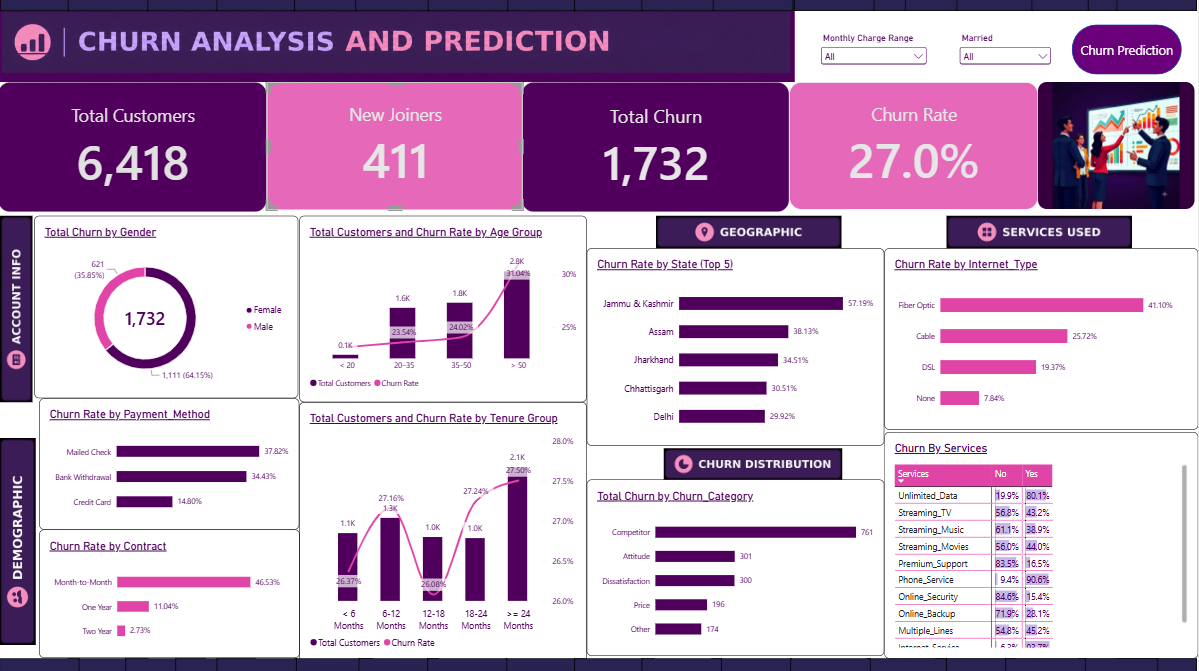

The page's visual inventory and layout, read from the dashboard file:
{"tool":"powerbi","page":{"name":"Summary","canvas":[1920,1080],"ordinal":0},"visuals":[{"type":"cardVisual","fields":{"Data":["tbl_Measures.Total Customers"]},"box":[0,136,430,208.3],"z":0},{"type":"cardVisual","fields":{"Data":["tbl_Measures.Total Churn"]},"box":[838.3,136.7,428,208],"z":1000},{"type":"cardVisual","fields":{"Data":["tbl_Measures.New Joiners"]},"box":[430,136.7,410,204],"z":2000},{"type":"cardVisual","fields":{"Data":["tbl_Measures.Churn Rate"]},"box":[1266,136,398,204],"z":3000},{"type":"donutChart","fields":{"Category":["prod_Churn.Gender"],"Y":["tbl_Measures.Total Churn"]},"box":[58,350,422,292],"z":4000},{"type":"lineStackedColumnComboChart","title":"Total Customers and Churn Rate by Age Group","fields":{"Category":["mapping_AgeGrp.Age Group"],"Y":["tbl_Measures.Total Customers"],"Y2":["tbl_Measures.Churn Rate"]},"box":[482,350,460,298],"z":5000},{"type":"clusteredBarChart","fields":{"Category":["prod_Churn.Payment_Method"],"Y":["tbl_Measures.Churn Rate"]},"box":[66,642,416,210],"z":6000},{"type":"clusteredBarChart","fields":{"Category":["prod_Churn.Contract"],"Y":["tbl_Measures.Churn Rate"]},"box":[66.7,852.2,416.7,205.6],"z":7000},{"type":"lineStackedColumnComboChart","fields":{"Category":["mapping_TenureGrp. Tenure Group "],"Y":["tbl_Measures.Total Customers"],"Y2":["tbl_Measures.Churn Rate"]},"box":[482,648,460,416],"z":8000},{"type":"clusteredBarChart","title":"Churn Rate by State (Top 5)","fields":{"Category":["prod_Churn.State"],"Y":["tbl_Measures.Churn Rate"]},"box":[942,402,476,316],"z":9000},{"type":"clusteredBarChart","fields":{"Category":["prod_Churn.Churn_Category"],"Y":["tbl_Measures.Total Churn"]},"box":[942,772,476,282],"z":10000},{"type":"clusteredBarChart","fields":{"Category":["prod_Churn.Internet_Type"],"Y":["tbl_Measures.Churn Rate"]},"box":[1418,402,502,290],"z":11000},{"type":"pivotTable","title":"Churn By Services","fields":{"Columns":["prod_Services.Status"],"Rows":["prod_Services.Services"],"Values":["Sum(prod_Services.Churn Status )"]},"box":[1418,696,502,362],"z":12000},{"type":"slicer","fields":{"Values":["prod_Churn.Monthly Charge Status"]},"box":[1311.7,55,178.3,56.7],"z":13000},{"type":"slicer","fields":{"Values":["prod_Churn.Married"]},"box":[1533.3,55,155,56.7],"z":14000},{"type":"image","box":[1664.2,136.7,250,203.3],"z":15000},{"type":"image","box":[1018,722,380,50],"z":17000},{"type":"image","box":[1484,350,364,52],"z":18000},{"type":"image","box":[948,350,506,52],"z":19000},{"type":"image","box":[2.5,680,58,382],"z":20000},{"type":"image","box":[0,350,58,298],"z":21000},{"type":"image","box":[280,1057.5,514,22],"z":22000},{"type":"image","box":[1417.5,0,132.5,22.5],"z":23000},{"type":"image","box":[552.5,1057.5,177.5,22.5],"z":24000},{"type":"image","box":[635,1057.5,480,22.5],"z":25000},{"type":"image","box":[662.5,1057.5,177.5,22.5],"z":26000},{"type":"image","box":[920,1057.5,132.5,22.5],"z":27000},{"type":"image","box":[1140,1057.5,132.5,22.5],"z":28000},{"type":"image","box":[1027.5,1057.5,132.5,22.5],"z":29000},{"type":"image","box":[1497.5,1057.5,132.5,22.5],"z":30000},{"type":"image","box":[1387.5,1057.5,132.5,22.5],"z":31000},{"type":"image","box":[1265,1057.5,132.5,22.5],"z":32000},{"type":"image","box":[1787.5,1057.5,132.5,22.5],"z":33000},{"type":"image","box":[1725,1057.5,132.5,22.5],"z":34000},{"type":"image","box":[1610,1057.5,132.5,22.5],"z":35000},{"type":"image","box":[110,1057.5,132.5,22.5],"z":36000},{"type":"image","box":[0,1057.5,132.5,22.5],"z":37000},{"type":"image","box":[202.5,1057.5,132.5,22.5],"z":38000},{"type":"image","box":[282.5,1057.5,132.5,22.5],"z":39000},{"type":"image","box":[348,1057.5,132.5,22.5],"z":40000},{"type":"image","box":[1532.5,0,132.5,22.5],"z":41000},{"type":"image","box":[1652.5,0,132.5,22.5],"z":42000},{"type":"image","box":[1742.5,0,132.5,22.5],"z":43000},{"type":"image","box":[1787.5,0,132.5,22.5],"z":44000},{"type":"image","box":[1321.7,0,132.5,22.5],"z":45000},{"type":"shape","box":[1718,44,176,80],"z":46000},{"type":"image","box":[0,0,1274,136],"z":46001},{"type":"image","box":[1272,0,132.5,22.5],"z":46002},{"type":"image","box":[794,0,132.5,22.5],"z":46003},{"type":"image","box":[920,0,132.5,22.5],"z":46004},{"type":"image","box":[1028,0,132.5,22.5],"z":46005},{"type":"image","box":[1142,0,132.5,22.5],"z":46006},{"type":"image","box":[232,0,132.5,22.5],"z":46007},{"type":"image","box":[348,0,132.5,22.5],"z":46008},{"type":"image","box":[472,0,132.5,22.5],"z":46009},{"type":"image","box":[570,0,132.5,22.5],"z":46010},{"type":"image","box":[686,0,132.5,22.5],"z":46011},{"type":"image","box":[2,0,132.5,22.5],"z":46012},{"type":"image","box":[110,0,132.5,22.5],"z":46013}]}

Visuals, with their boxes in screenshot pixels (x1, y1, x2, y2), scaled from the page's 1920x1080 canvas onto the 1199x671 screenshot:
cardVisual - tbl_Measures.Total Customers: 0:84:269:214
cardVisual - tbl_Measures.Total Churn: 524:85:791:214
cardVisual - tbl_Measures.New Joiners: 269:85:525:212
cardVisual - tbl_Measures.Churn Rate: 791:84:1039:211
donutChart - prod_Churn.Gender x tbl_Measures.Total Churn: 36:217:300:399
"Total Customers and Churn Rate by Age Group" lineStackedColumnComboChart: 301:217:588:403
clusteredBarChart - prod_Churn.Payment_Method x tbl_Measures.Churn Rate: 41:399:301:529
clusteredBarChart - prod_Churn.Contract x tbl_Measures.Churn Rate: 42:529:302:657
lineStackedColumnComboChart - mapping_TenureGrp. Tenure Group  x tbl_Measures.Total Customers: 301:403:588:661
"Churn Rate by State (Top 5)" clusteredBarChart: 588:250:886:446
clusteredBarChart - prod_Churn.Churn_Category x tbl_Measures.Total Churn: 588:480:886:655
clusteredBarChart - prod_Churn.Internet_Type x tbl_Measures.Churn Rate: 886:250:1198:430
"Churn By Services" pivotTable: 886:432:1198:657
slicer - prod_Churn.Monthly Charge Status: 819:34:930:69
slicer - prod_Churn.Married: 958:34:1054:69
image: 1039:85:1195:211
image: 636:449:873:480
image: 927:217:1154:250
image: 592:217:908:250
image: 2:422:38:660
image: 0:217:36:403
image: 175:657:496:670
image: 885:0:968:14
image: 345:657:456:670
image: 397:657:696:670
image: 414:657:525:670
image: 575:657:657:670
image: 712:657:795:670
image: 642:657:724:670
image: 935:657:1018:670
image: 866:657:949:670
image: 790:657:873:670
image: 1116:657:1198:670
image: 1077:657:1160:670
image: 1005:657:1088:670
image: 69:657:151:670
image: 0:657:83:670
image: 126:657:209:670
image: 176:657:259:670
image: 217:657:300:670
image: 957:0:1040:14
image: 1032:0:1115:14
image: 1088:0:1171:14
image: 1116:0:1198:14
image: 825:0:908:14
shape: 1073:27:1183:77
image: 0:0:796:84
image: 794:0:877:14
image: 496:0:579:14
image: 575:0:657:14
image: 642:0:725:14
image: 713:0:796:14
image: 145:0:228:14
image: 217:0:300:14
image: 295:0:377:14
image: 356:0:439:14
image: 428:0:511:14
image: 1:0:84:14
image: 69:0:151:14
